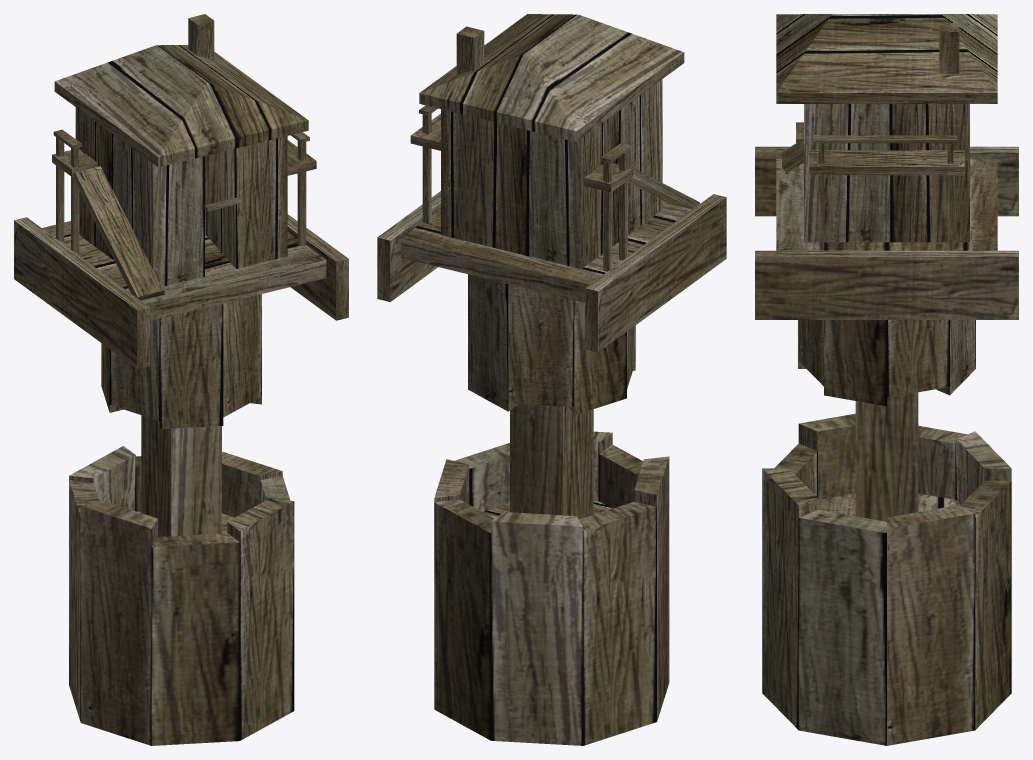
Rendered from mailbox-spirit-mansion.dae.
The picture shows the model from 3 angles, left to right: view 1: azimuth 30°, elevation 25°; view 2: azimuth 150°, elevation 25°; view 3: azimuth 270°, elevation 25°; orthographic projection. The views are drawn at different scales.
Visible parts, largest first — view 1: mailbox; view 2: mailbox; view 3: mailbox.
Boxes of the visible parts, <box> form: mailbox: <box>14,14,348,745</box>; mailbox: <box>377,14,726,745</box>; mailbox: <box>755,14,1018,745</box>.
Bounding box in the file's own units: 4.51 × 13.14 × 4.55.
Materials: 1 (1 with a texture image).
